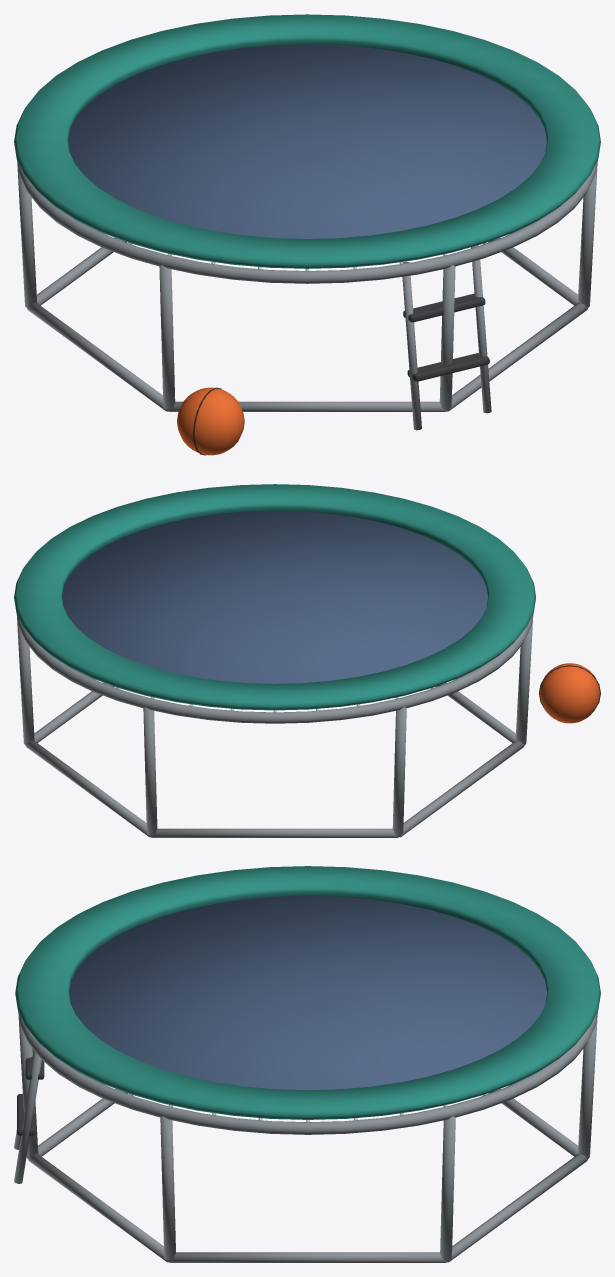
Rendered from trampoline.glb.
3 renders of one model, top to bottom at view 1: azimuth 30°, elevation 25°; view 2: azimuth 150°, elevation 25°; view 3: azimuth 270°, elevation 25°, orthographic. The views are drawn at different scales.
Visible parts, largest first — view 1: body, mat; view 2: mat, body; view 3: mat, body.
Part boxes in pixels (x1,y1,x2,y2): body: (14, 14, 600, 455); mat: (68, 44, 546, 238); mat: (62, 510, 487, 683); body: (14, 484, 600, 837); mat: (69, 896, 546, 1090); body: (14, 866, 600, 1262).
Size of the model in its own units: 1.9 by 0.635 by 1.9.
